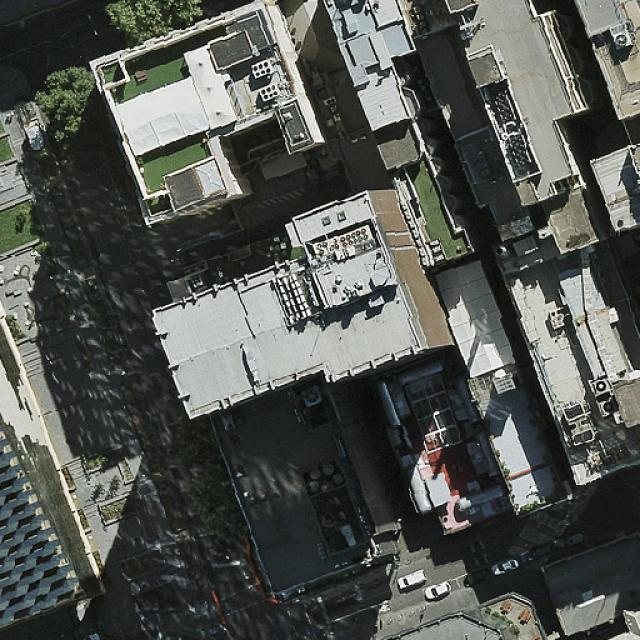Bike-Symbols: (378, 602, 392, 614)
